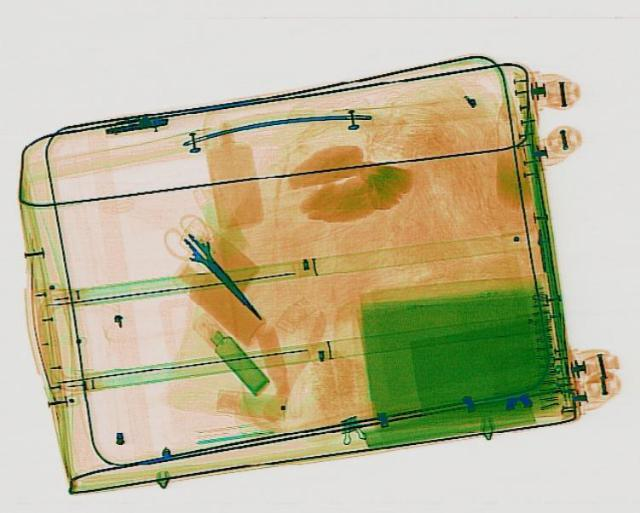Knife: (169, 227, 273, 324)
